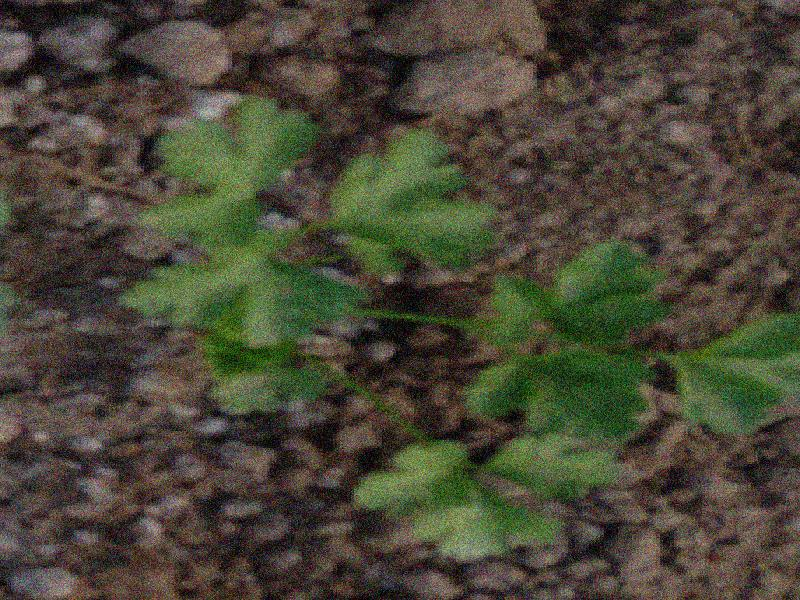radish: (0, 0, 680, 574)
